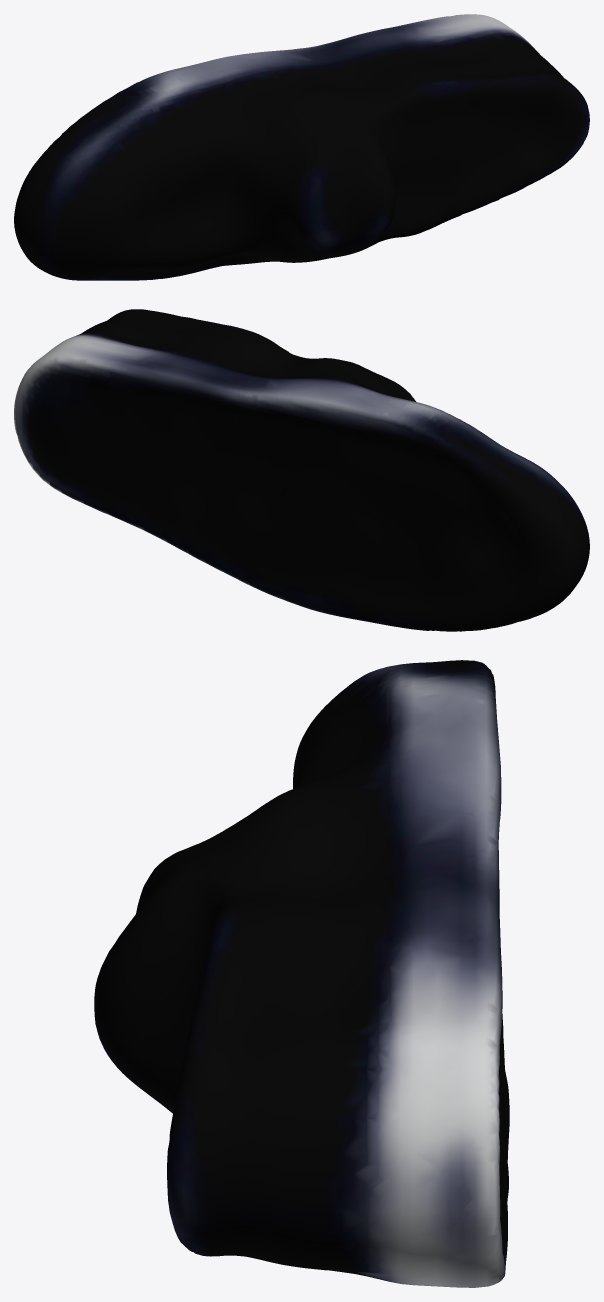
The model's file is shoe.glb.
3 renders of one model, top to bottom at view 1: azimuth 30°, elevation 25°; view 2: azimuth 150°, elevation 25°; view 3: azimuth 270°, elevation 25°, orthographic. The views are drawn at different scales.
Size of the model in its own units: 0.9997 by 0.3673 by 0.3467.
